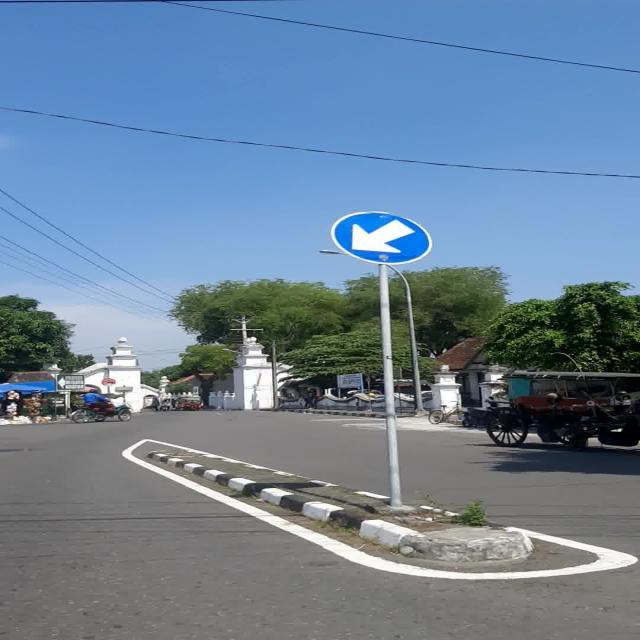Lajur Kiri: (330, 211, 432, 265)
